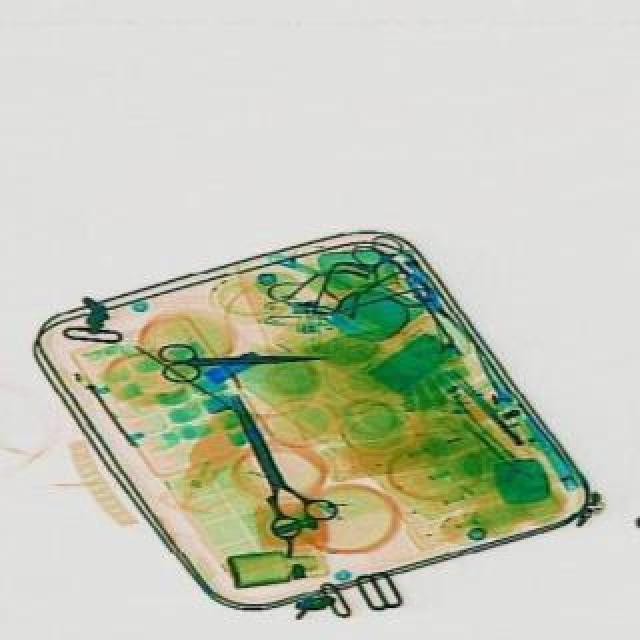pliers: (206, 378, 338, 542), (156, 336, 324, 384)
